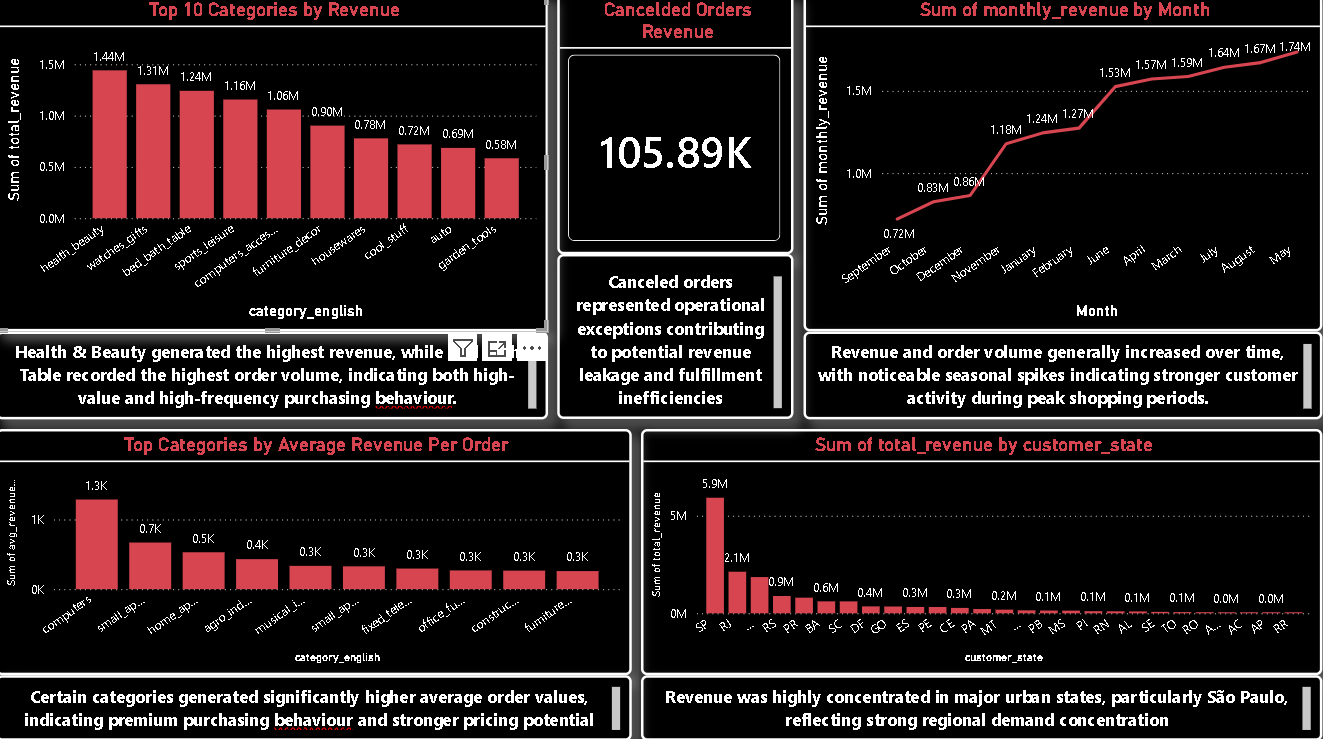

The dashboard page shown, as its layout file describes it:
{"tool":"powerbi","page":{"name":"Page 1","canvas":[1280,720],"ordinal":0},"visuals":[{"type":"clusteredColumnChart","title":"Top 10 Categories by Revenue","fields":{"Category":["Revenue and Volume by Category.category_english"],"Y":["Sum(Revenue and Volume by Category.total_revenue)"]},"box":[0,0,532.4,325.2],"z":0},{"type":"textbox","box":[0,325.2,532.4,85.1],"z":1},{"type":"lineChart","fields":{"Category":["Sales Trends Over Time.order_month.Variation.Date Hierarchy.Year","Sales Trends Over Time.order_month.Variation.Date Hierarchy.Quarter","Sales Trends Over Time.order_month.Variation.Date Hierarchy.Month","Sales Trends Over Time.order_month.Variation.Date Hierarchy.Day"],"Y":["Sum(Sales Trends Over Time.monthly_revenue)"]},"box":[779.4,0,500.9,325.2],"z":2},{"type":"textbox","box":[779.4,325.2,500.9,85.1],"z":3},{"type":"clusteredColumnChart","fields":{"Category":["Customer Distribution by State.customer_state"],"Y":["Sum(Customer Distribution by State.total_revenue)"]},"box":[622.5,419.8,657.5,237.7],"z":4},{"type":"textbox","box":[622.5,657.5,657.5,62.7],"z":5},{"type":"cardVisual","title":"Cancelded Orders Revenue","fields":{"Data":["Sum(canceled orders.lost_revenue)"]},"box":[542,0,227.8,251.1],"z":6},{"type":"textbox","box":[542,251.1,227.8,159.2],"z":7},{"type":"columnChart","title":"Top Categories by Average Revenue Per Order","fields":{"Y":["Sum(Average Revenue Per Order.avg_revenue_per_order)"],"Category":["Average Revenue Per Order.category_english"]},"box":[0,419.8,612.9,237.7],"z":8},{"type":"textbox","box":[0,657.5,612.9,62.7],"z":9}]}

Visuals, with their boxes in screenshot pixels (x1, y1, x2, y2), scaled from the page's 1280x720 canvas onto the 1323x739 screenshot:
"Top 10 Categories by Revenue" clusteredColumnChart: 0 0 550 334
textbox: 0 334 550 421
lineChart - Sales Trends Over Time.order_month.Variation.Date Hierarchy.Year x Sales Trends Over Time.order_month.Variation.Date Hierarchy.Quarter: 806 0 1322 334
textbox: 806 334 1322 421
clusteredColumnChart - Customer Distribution by State.customer_state x Sum(Customer Distribution by State.total_revenue): 643 431 1322 675
textbox: 643 675 1322 738
"Cancelded Orders Revenue" cardVisual: 560 0 796 258
textbox: 560 258 796 421
"Top Categories by Average Revenue Per Order" columnChart: 0 431 633 675
textbox: 0 675 633 738
